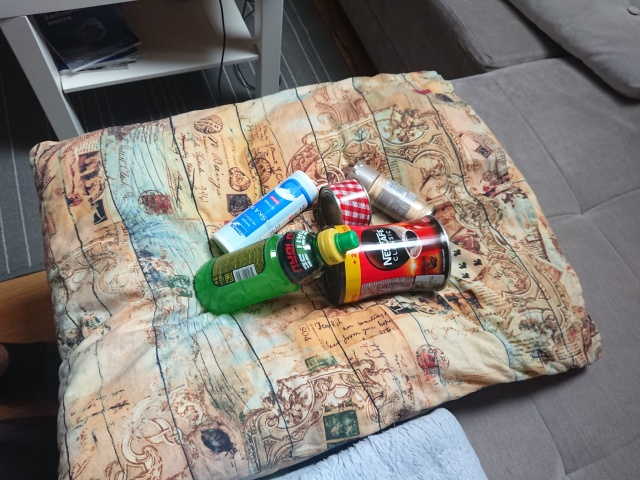Kotanyi Garlic Granules 70g: (342, 158, 439, 232)
Nescafe Classic 225g: (315, 212, 454, 308)
Podravka Luncheon Meat 150g: (316, 175, 374, 240)
Solana Pag Fine Sea Salt 250g: (209, 167, 322, 265)
Vindi Iso Sport Lemon-Grapefruit 500mL: (190, 225, 361, 318)
